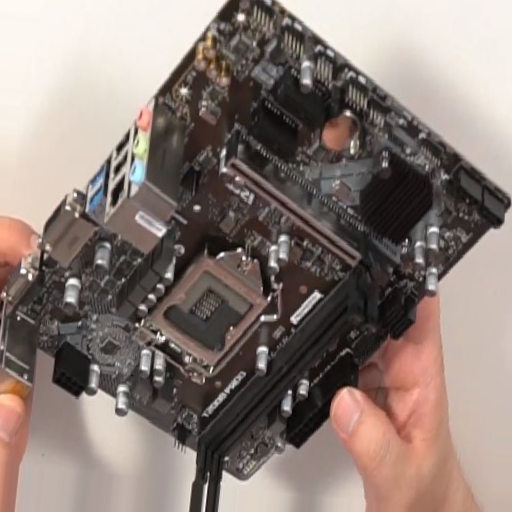CPU: (136, 250, 270, 381)
GPU: (223, 134, 381, 285)
MOTHERBOARD: (5, 3, 505, 481)
RAM: (198, 280, 382, 473)
